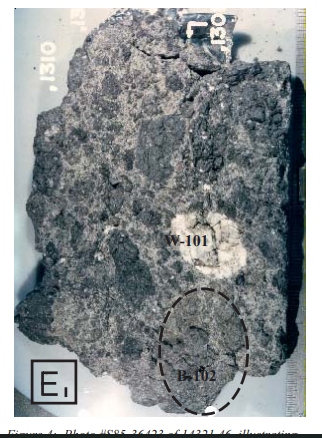Breccia: (55, 14, 287, 390), (30, 131, 282, 322)
